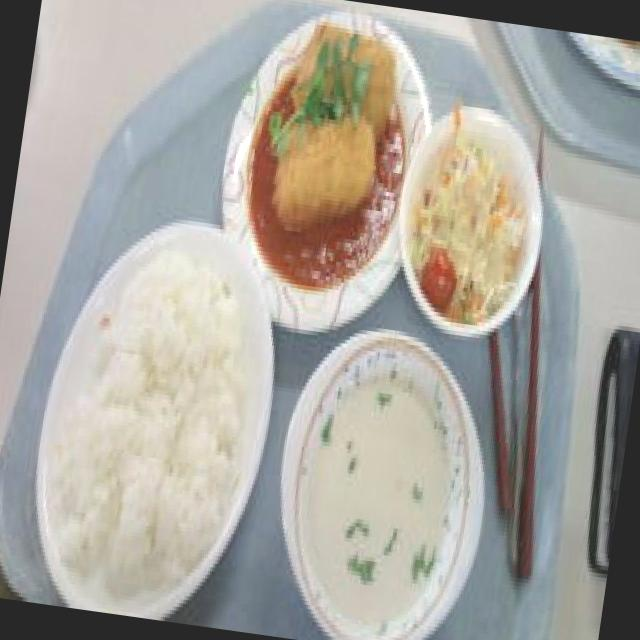Rice: (42, 235, 272, 584)
